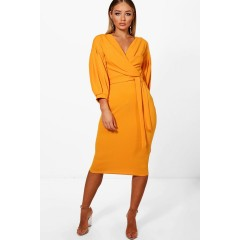C_dress: (86, 35, 163, 177)
